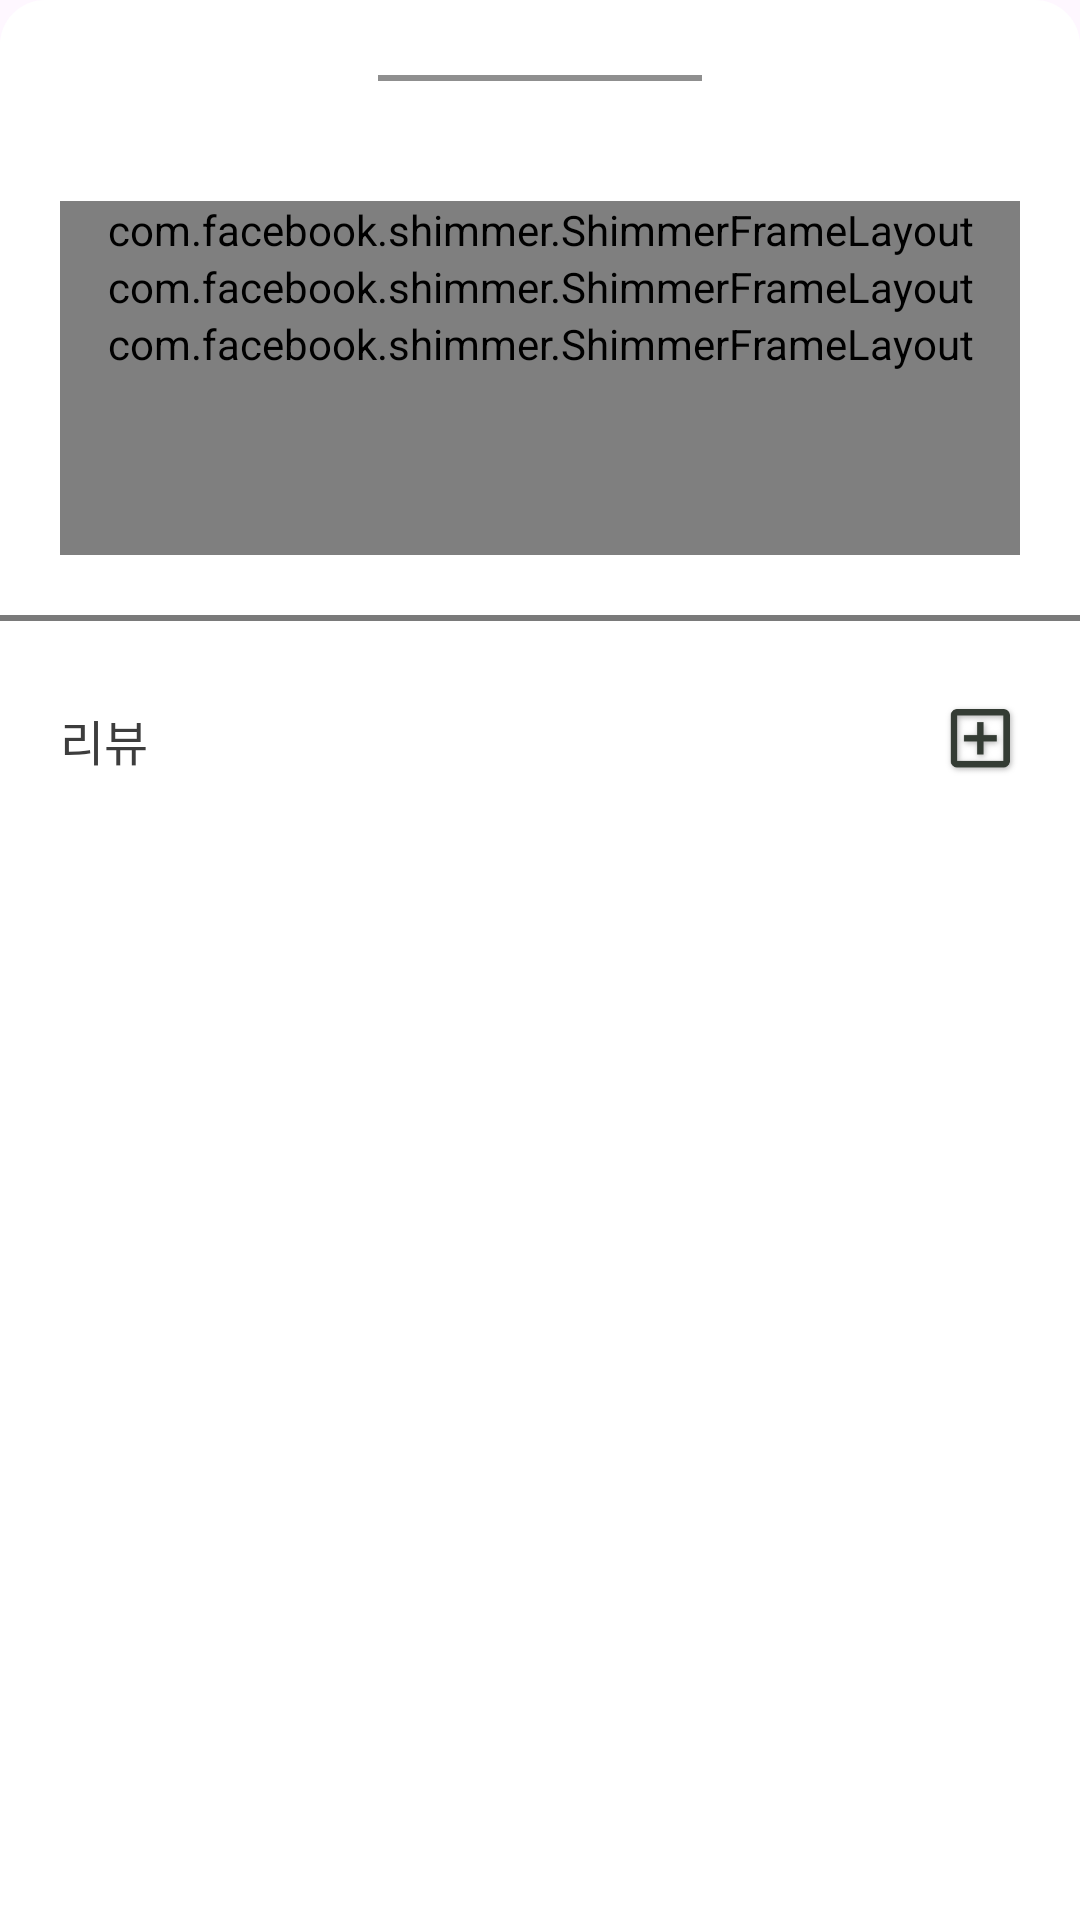

Locate icon controls on the screen. Image size 1080px×1920px, boxes as (x1=x1, y1=y1, x2=x2, y2=y2).
add: (x1=950, y1=709, x2=1012, y2=771)
